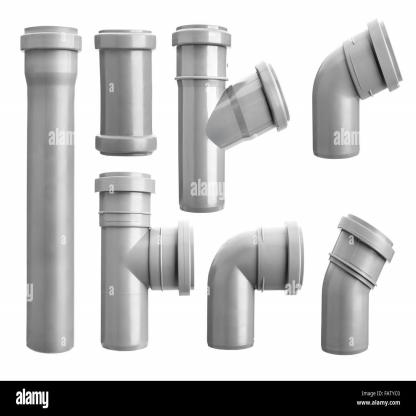PVC: (172, 24, 290, 213), (20, 28, 82, 354), (95, 174, 194, 351), (312, 19, 403, 159), (207, 221, 304, 351), (321, 214, 395, 355), (94, 31, 158, 156)
